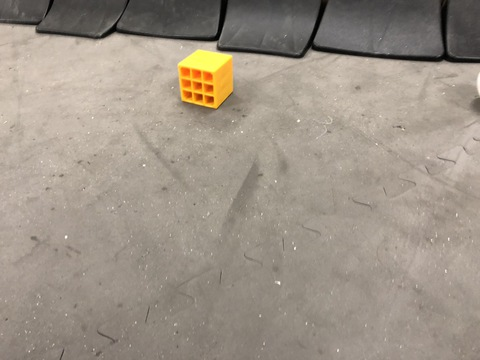block: (168, 47, 243, 115)
